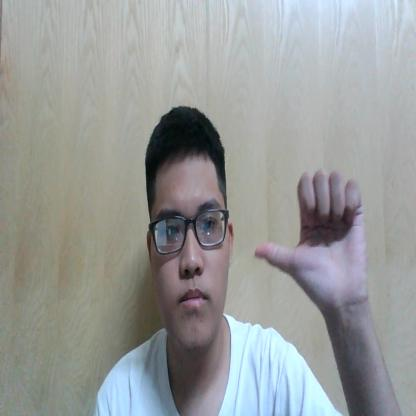right: (253, 170, 365, 297)
